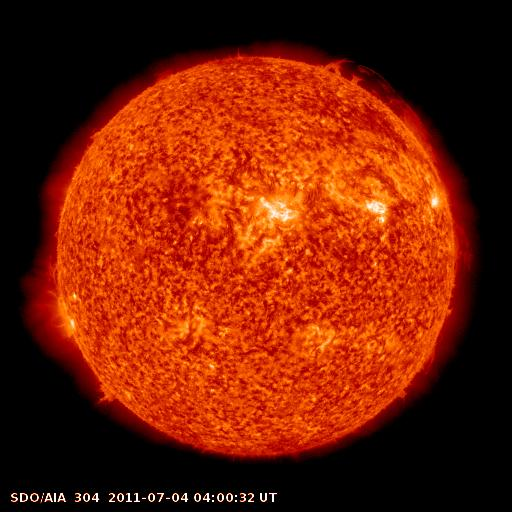prominence: (324, 55, 443, 167), (29, 227, 65, 294), (448, 219, 480, 274), (92, 376, 126, 413)
